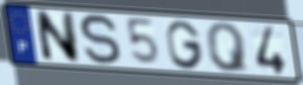4: (254, 23, 288, 76)
5: (122, 17, 162, 68)
G: (164, 19, 206, 71)
N: (33, 9, 82, 65)
Q: (204, 22, 252, 74)
S: (78, 12, 124, 67)
